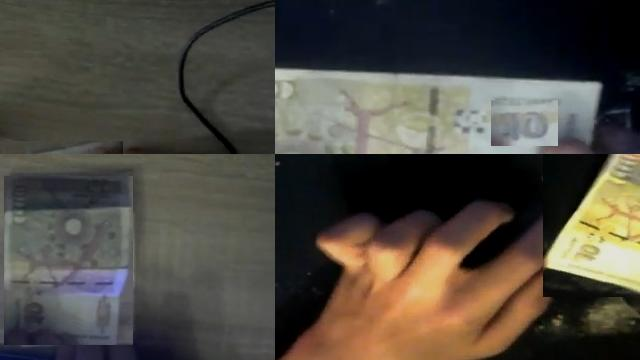10leva: (4, 176, 133, 345), (543, 154, 640, 294), (491, 100, 557, 145)
